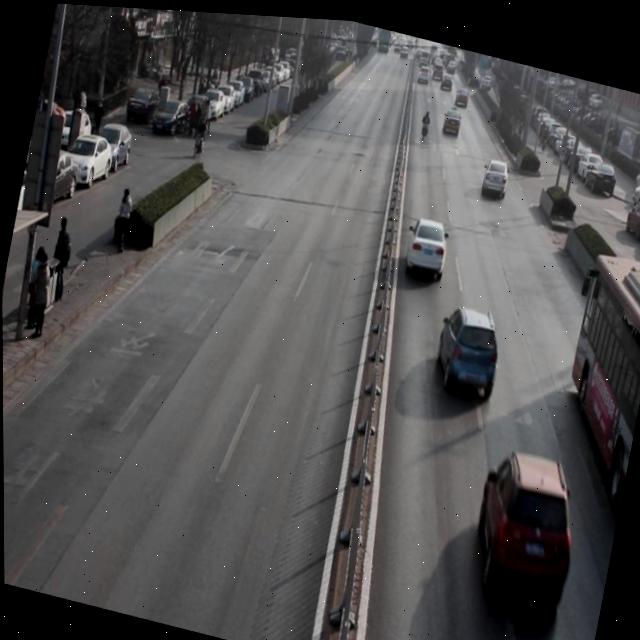car: (461, 427, 590, 612), (427, 296, 510, 401), (401, 211, 454, 280), (480, 153, 513, 199), (440, 100, 465, 137)
van: (542, 242, 640, 512)
